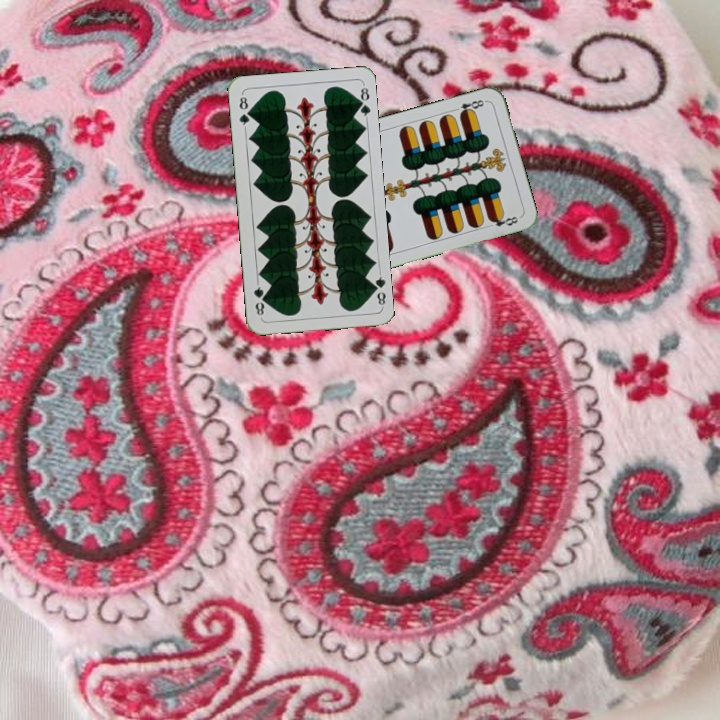E8: (449, 96, 489, 118)
G8: (367, 269, 388, 309), (235, 90, 253, 131)
